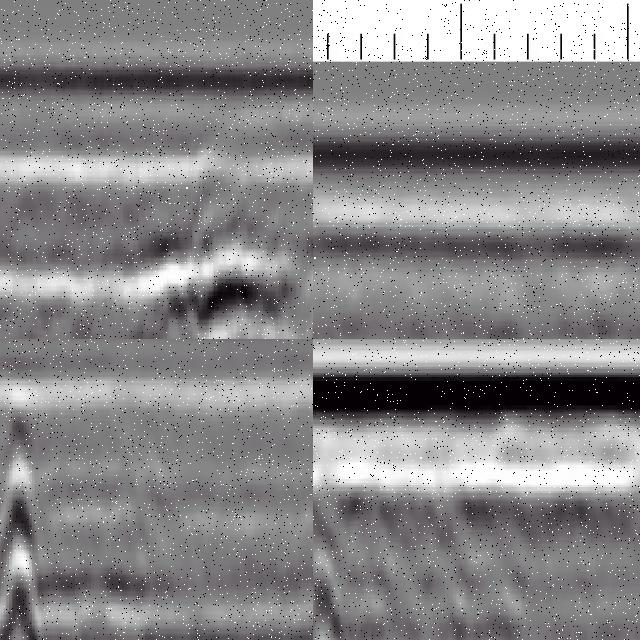crack: (1, 386, 49, 640)
loose: (126, 216, 314, 340), (314, 510, 363, 640)
